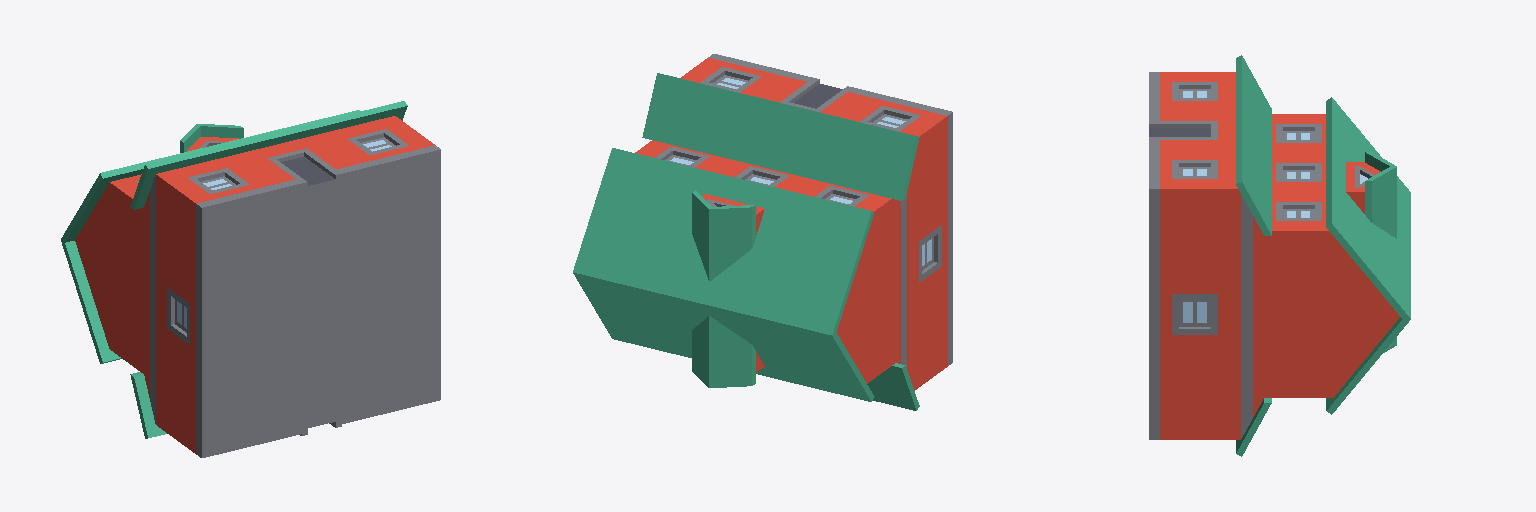
File: house_type06.obj
3 views of the same model, side by side, from view 1: azimuth 30°, elevation 25°; view 2: azimuth 150°, elevation 25°; view 3: azimuth 270°, elevation 25° (orthographic).
Visible parts, largest first — view 1: house_type06; view 2: house_type06; view 3: house_type06.
Part boxes in pixels (x1,y1,x2,y2): house_type06: (61, 101, 440, 457); house_type06: (573, 54, 952, 410); house_type06: (1149, 55, 1410, 456).
Bounding box in the file's own units: 1.3 × 1.32 × 1.14.